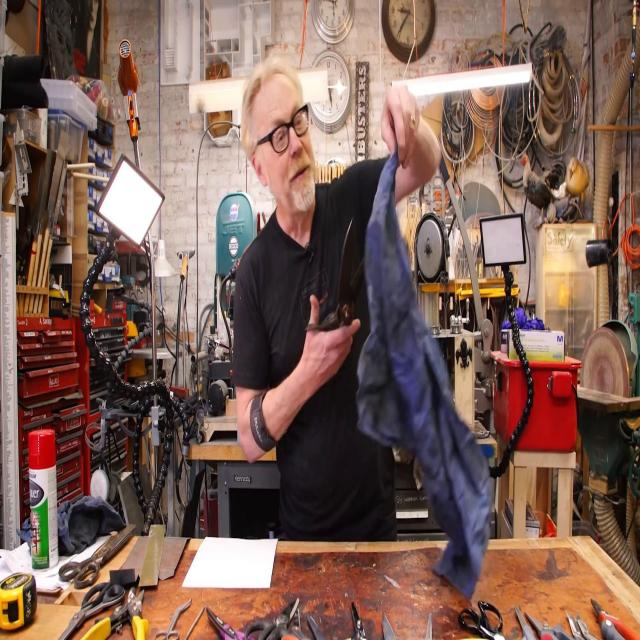scissor: (304, 214, 364, 350), (58, 523, 136, 590), (56, 581, 125, 640), (244, 596, 300, 640), (458, 600, 506, 640), (206, 607, 255, 640), (155, 598, 192, 640), (524, 610, 574, 640), (345, 601, 370, 640), (281, 608, 311, 640), (514, 605, 535, 640)
